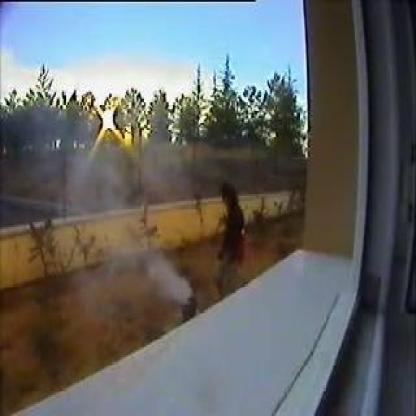-: (135, 249, 189, 300)
